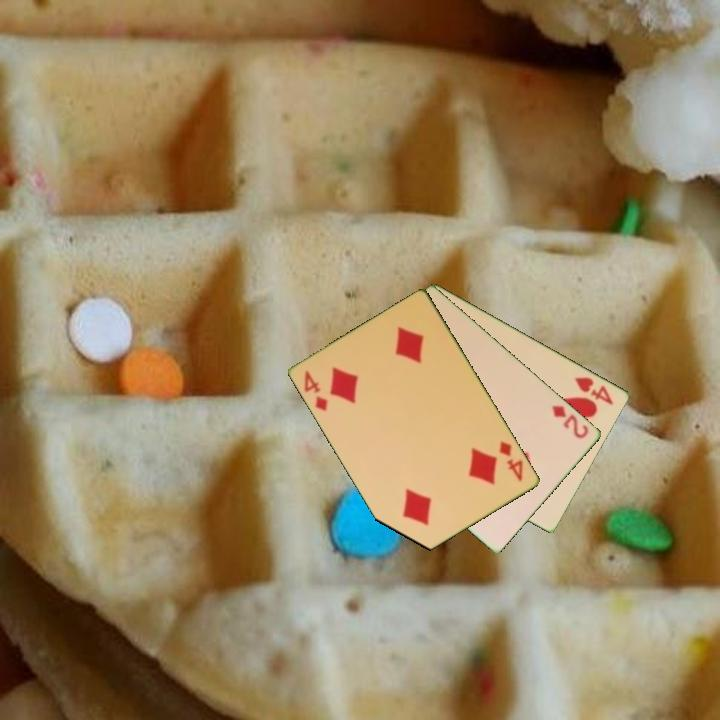2d: (549, 401, 592, 442)
4d: (496, 437, 526, 484), (301, 367, 331, 414)
4h: (571, 373, 617, 408)
